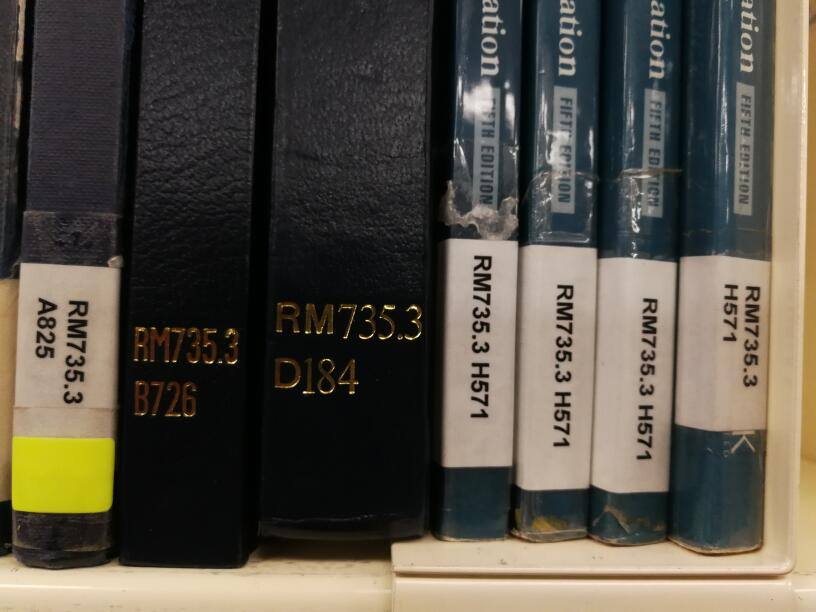booklabel: (271, 298, 427, 400), (129, 320, 242, 421), (33, 294, 94, 406), (716, 280, 765, 389), (466, 250, 496, 420), (549, 279, 577, 453), (633, 294, 661, 464)
